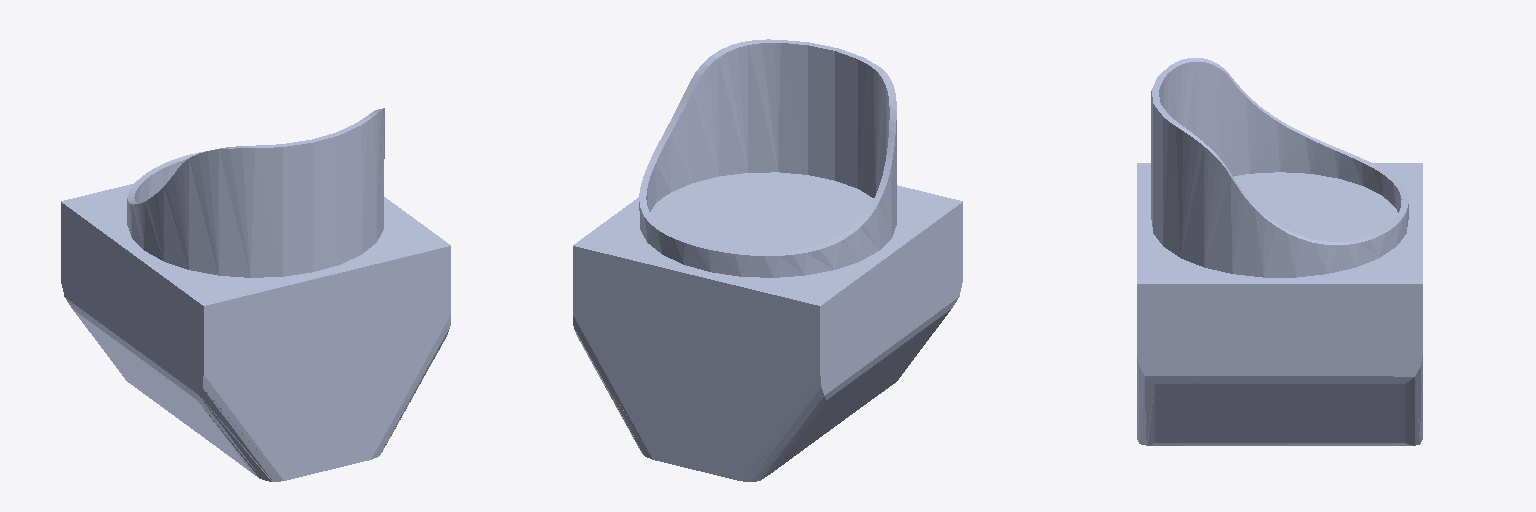
Rendered from fos_1.obj.
3 renders of one model, left to right at view 1: azimuth 30°, elevation 25°; view 2: azimuth 150°, elevation 25°; view 3: azimuth 270°, elevation 25°, orthographic.
Visible parts, largest first — view 1: ________0; view 2: ________0; view 3: ________0.
Boxes of the visible parts, x1=… form: ________0: x1=61, y1=108, x2=450, y2=481; ________0: x1=573, y1=39, x2=962, y2=481; ________0: x1=1137, y1=58, x2=1422, y2=445.
Bounding box in the file's own units: 0.008 × 0.01 × 0.008.